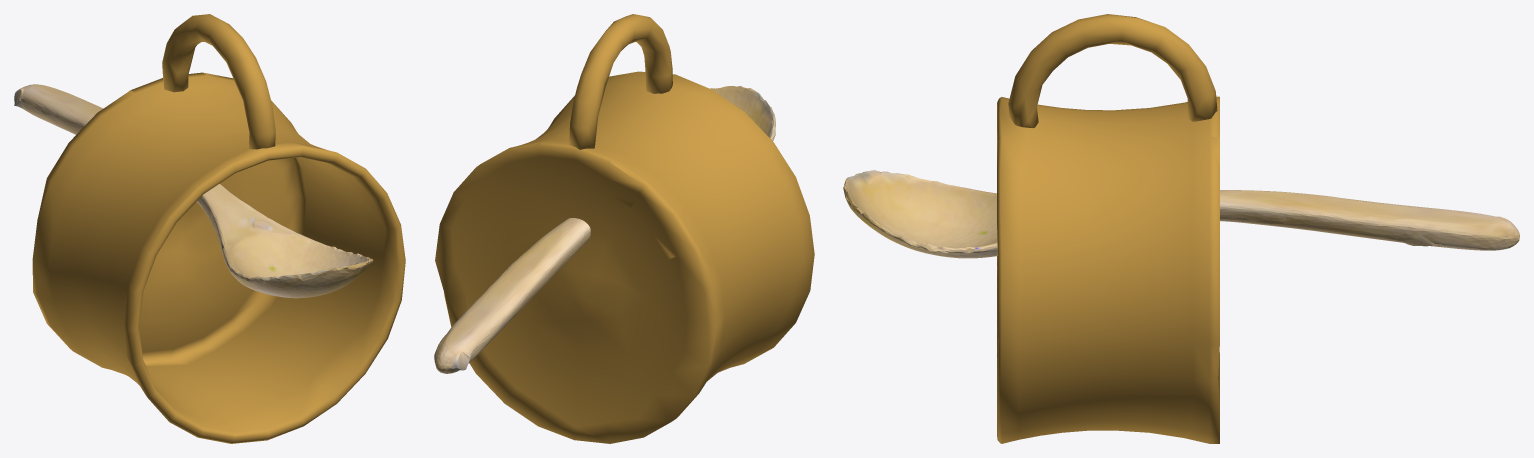
3 renders of one model, left to right at view 1: azimuth 30°, elevation 25°; view 2: azimuth 150°, elevation 25°; view 3: azimuth 270°, elevation 25°, orthographic. The views are drawn at different scales.
Parts seen in each view (by area): view 1: world; view 2: world; view 3: world.
Boxes of the visible parts, <box> form: world: <box>14,14,405,443</box>; world: <box>434,14,814,443</box>; world: <box>843,14,1519,443</box>.
Size of the model in its own units: 0.0997 by 0.1306 by 0.1935.
